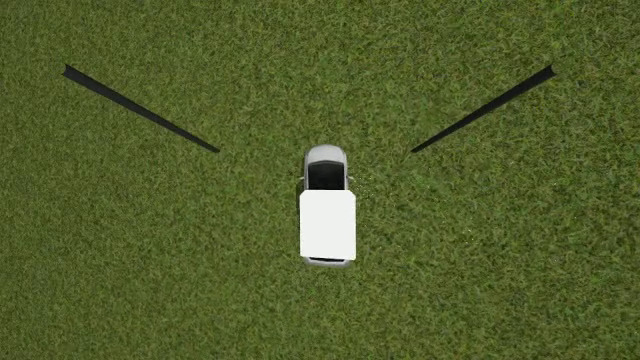Car: (298, 144, 356, 267)
